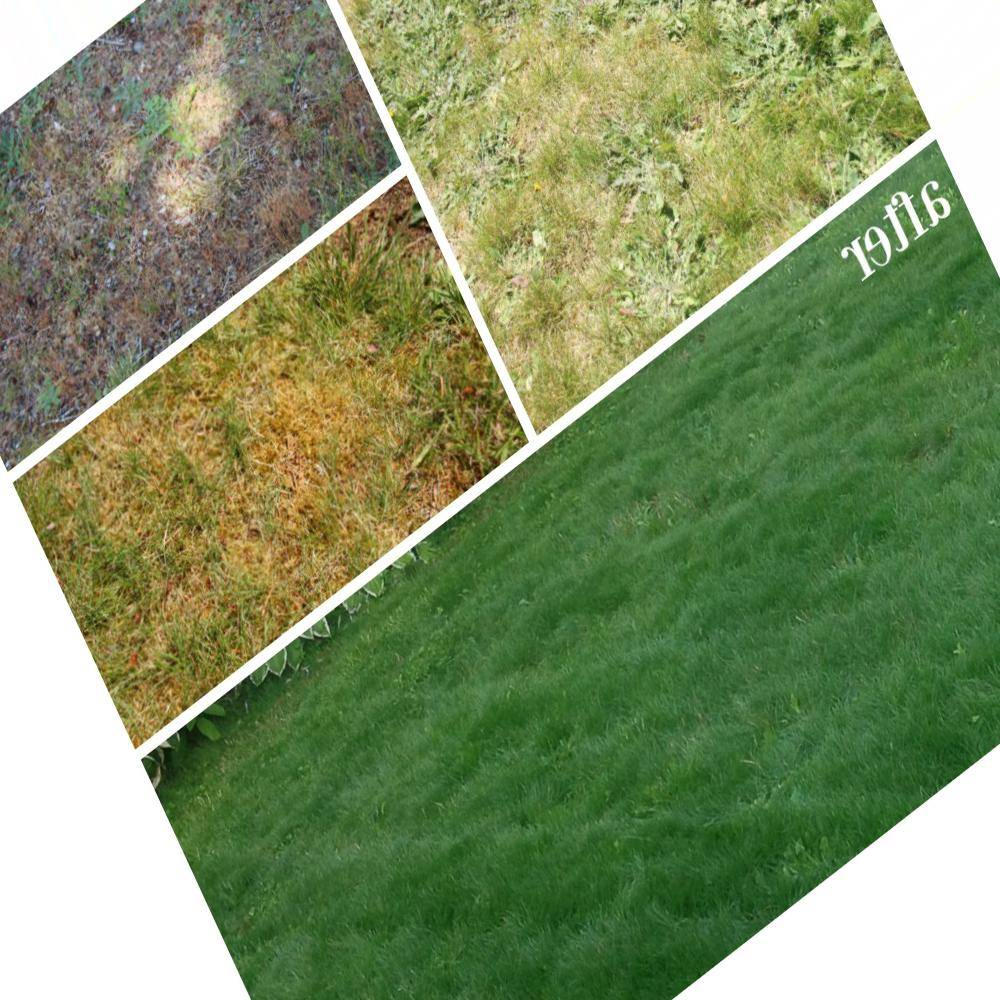patch: (463, 24, 702, 261), (131, 30, 284, 237), (232, 357, 397, 524), (73, 455, 224, 625), (43, 131, 131, 341)
